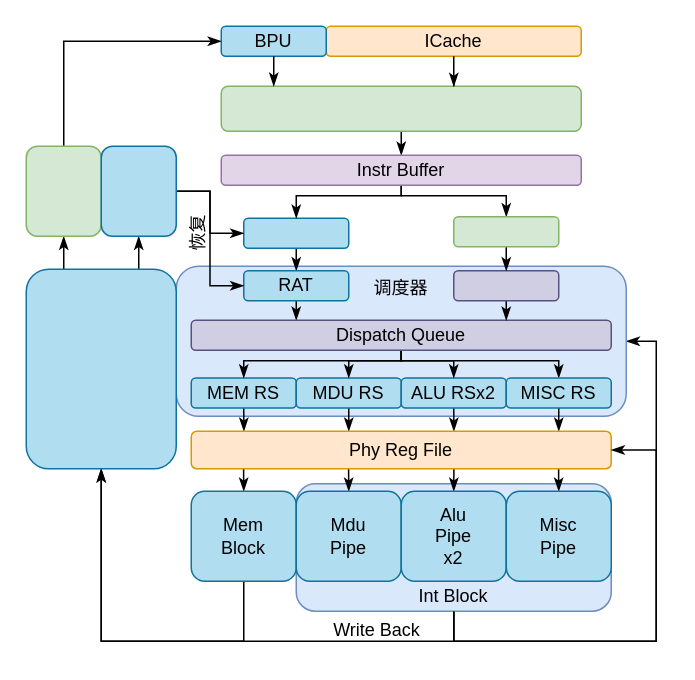
The diagram is 695 pixels wide and 680 high, and some of its shapes have lost their labels. Each missing label, with the box of its shape:
Arch RAT FreeList: (100, 145, 176, 236)
Buffer: (452, 269, 559, 301)
Decoder: (452, 215, 559, 247)
Excp & Redirect: (25, 145, 101, 236)
FreeList: (242, 217, 349, 248)
PreDecoder PreChecker: (220, 85, 581, 131)
ROB: (25, 268, 176, 469)
